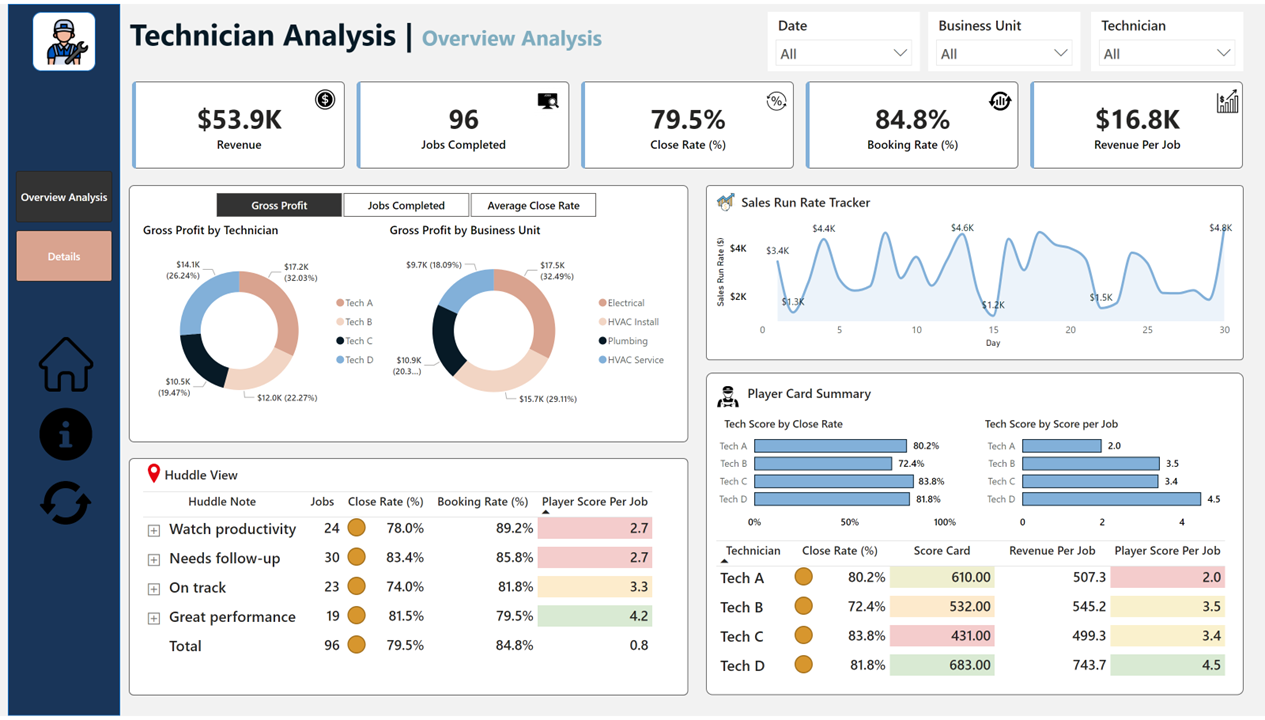

The page's visual inventory and layout, read from the dashboard file:
{"tool":"powerbi","page":{"name":"Overview Analysis","canvas":[1600,900],"ordinal":0},"visuals":[{"type":"shape","box":[9.7,0,142,899.7],"z":0},{"type":"textbox","box":[159.3,7.3,632.2,69.3],"z":1000},{"type":"cardVisual","fields":{"Data":["Sheet1.Gross Profit","Sum(Sheet1.Jobs Completed)","Sheet1.Avg Close Rate","Sheet1.Booking Rate","Sum(Sheet1.Revenue Per Job)"]},"box":[162,93,1415,120],"z":2000},{"type":"image","box":[668.8,99.9,49.3,45.3],"z":3000},{"type":"image","box":[960.5,99.9,42.6,45.3],"z":4000},{"type":"image","box":[1244.3,99.9,42.6,45.3],"z":5000},{"type":"image","box":[386.3,95.9,50.6,49.3],"z":6000},{"type":"image","box":[1529.4,99.9,48,45.3],"z":7000},{"type":"shape","box":[162.5,228.8,707.5,325],"z":8000},{"type":"slicer","fields":{"Values":["Dynamic Measure.Dynamic Measure"]},"box":[247.8,231.8,530.2,44],"z":9000},{"type":"donutChart","fields":{"Y":["Refresh._Gross Profit"],"Category":["Sheet1.Technician"]},"box":[176.2,275,311.2,256.2],"z":10000},{"type":"donutChart","fields":{"Y":["Refresh._Gross Profit"],"Category":["Sheet1.Business Unit"]},"box":[487.5,275,366.2,256.2],"z":11000},{"type":"shape","box":[162.5,573.8,707.5,300],"z":12000},{"type":"pivotTable","fields":{"Values":["Sum(Sheet1.Jobs Completed)","Avg(Sheet1.Close Rate (%))","Avg(Sheet1.Booking Rate (%))","Sheet1._Player Card Score per job"],"Rows":["Sheet1.Huddle Note","Sheet1.Technician"]},"box":[176.2,611.2,677.5,245],"z":13000},{"type":"card","fields":{"Values":["Sheet1._Title for huddle view"]},"box":[195,573.8,118.8,46.2],"z":14000},{"type":"image","box":[176.2,573.8,37.5,37.5],"z":15000},{"type":"shape","box":[892.5,228.8,680,221.2],"z":16000},{"type":"areaChart","title":"Sales Run Rate Tracker","fields":{"Category":["Calendar Table.Date.Variation.Date Hierarchy.Day"],"Y":["Sum(Sheet1.Sales Run Rate ($))"]},"box":[901.2,263.8,662.5,175],"z":17000},{"type":"card","fields":{"Values":["Sheet1._Title for Sales Run Rate Tracker"]},"box":[926.2,231.2,186.2,42.5],"z":18000},{"type":"image","box":[892.5,231.2,48.8,37.5],"z":19000},{"type":"shape","box":[892.5,466.2,680,407.5],"z":20000},{"type":"pivotTable","fields":{"Values":["Avg(Sheet1.Close Rate (%))","Sum(Sheet1.Players Card Score)","Sheet1._Revenue Per Job","Sheet1._Player Card Score per job"],"Rows":["Sheet1.Technician"]},"box":[901.2,672.5,665,183.8],"z":21000},{"type":"clusteredBarChart","title":"Sales Run Rate Tracker","fields":{"Category":["Sheet1.Technician"],"Y":["Avg(Sheet1.Close Rate (%))"]},"box":[901.2,527.5,313.8,145],"z":22000},{"type":"clusteredBarChart","title":"Sales Run Rate Tracker","fields":{"Category":["Sheet1.Technician"],"Y":["Sheet1._Player Card Score per job"]},"box":[1240,527.5,313.8,145],"z":23000},{"type":"card","fields":{"Values":["Sheet1._Title for Tech Score by Closing Rate"]},"box":[901.2,517.5,180,26.2],"z":24000},{"type":"card","fields":{"Values":["Sheet1._Tile for Tech Score by Player Card Score"]},"box":[1240,517.5,180,26.2],"z":25000},{"type":"card","fields":{"Values":["Sheet1._Title for Player Card Summary"]},"box":[926.2,471.2,195,46.2],"z":26000},{"type":"image","box":[900,477.5,41.2,36.2],"z":27000},{"type":"slicer","fields":{"Values":["Sheet1.Date"]},"box":[971.2,10,192.5,75],"z":28000},{"type":"slicer","fields":{"Values":["Sheet1.Business Unit"]},"box":[1173.8,10,192.5,75],"z":29000},{"type":"slicer","fields":{"Values":["Sheet1.Technician"]},"box":[1380,10,192.5,75],"z":30000},{"type":"shape","box":[41.2,10,80,75],"z":31000,"group":"g1"},{"type":"pageNavigator","box":[20,211.2,122.5,141.2],"z":31000},{"type":"image","box":[51.2,11.2,68.8,73.8],"z":32000,"group":"g1"},{"type":"group","id":"g1","title":"Group 1","box":[41.2,10,80,75],"z":32000},{"type":"image","box":[45,502.5,76.2,81.2],"z":33000},{"type":"image","box":[45,592.5,76.2,75],"z":34000},{"type":"image","box":[43.8,416.2,78.8,78.8],"z":36000}]}

Visuals, with their boxes in screenshot pixels (x1, y1, x2, y2), scaled from the page's 1600x900 canvas onto the 1265x720 screenshot:
shape: (x1=8, y1=0, x2=120, y2=719)
textbox: (x1=126, y1=6, x2=626, y2=61)
cardVisual - Sheet1.Gross Profit x Sum(Sheet1.Jobs Completed): (x1=128, y1=74, x2=1247, y2=170)
image: (x1=529, y1=80, x2=568, y2=116)
image: (x1=759, y1=80, x2=793, y2=116)
image: (x1=984, y1=80, x2=1017, y2=116)
image: (x1=305, y1=77, x2=345, y2=116)
image: (x1=1209, y1=80, x2=1247, y2=116)
shape: (x1=128, y1=183, x2=688, y2=443)
slicer - Dynamic Measure.Dynamic Measure: (x1=196, y1=185, x2=615, y2=221)
donutChart - Refresh._Gross Profit x Sheet1.Technician: (x1=139, y1=220, x2=385, y2=425)
donutChart - Refresh._Gross Profit x Sheet1.Business Unit: (x1=385, y1=220, x2=675, y2=425)
shape: (x1=128, y1=459, x2=688, y2=699)
pivotTable - Sum(Sheet1.Jobs Completed) x Avg(Sheet1.Close Rate (%)): (x1=139, y1=489, x2=675, y2=685)
card - Sheet1._Title for huddle view: (x1=154, y1=459, x2=248, y2=496)
image: (x1=139, y1=459, x2=169, y2=489)
shape: (x1=706, y1=183, x2=1243, y2=360)
"Sales Run Rate Tracker" areaChart: (x1=713, y1=211, x2=1236, y2=351)
card - Sheet1._Title for Sales Run Rate Tracker: (x1=732, y1=185, x2=879, y2=219)
image: (x1=706, y1=185, x2=744, y2=215)
shape: (x1=706, y1=373, x2=1243, y2=699)
pivotTable - Avg(Sheet1.Close Rate (%)) x Sum(Sheet1.Players Card Score): (x1=713, y1=538, x2=1238, y2=685)
"Sales Run Rate Tracker" clusteredBarChart: (x1=713, y1=422, x2=961, y2=538)
"Sales Run Rate Tracker" clusteredBarChart: (x1=980, y1=422, x2=1228, y2=538)
card - Sheet1._Title for Tech Score by Closing Rate: (x1=713, y1=414, x2=855, y2=435)
card - Sheet1._Tile for Tech Score by Player Card Score: (x1=980, y1=414, x2=1123, y2=435)
card - Sheet1._Title for Player Card Summary: (x1=732, y1=377, x2=886, y2=414)
image: (x1=712, y1=382, x2=744, y2=411)
slicer - Sheet1.Date: (x1=768, y1=8, x2=920, y2=68)
slicer - Sheet1.Business Unit: (x1=928, y1=8, x2=1080, y2=68)
slicer - Sheet1.Technician: (x1=1091, y1=8, x2=1243, y2=68)
shape: (x1=33, y1=8, x2=96, y2=68)
pageNavigator: (x1=16, y1=169, x2=113, y2=282)
image: (x1=40, y1=9, x2=95, y2=68)
"Group 1" group: (x1=33, y1=8, x2=96, y2=68)
image: (x1=36, y1=402, x2=96, y2=467)
image: (x1=36, y1=474, x2=96, y2=534)
image: (x1=35, y1=333, x2=97, y2=396)
